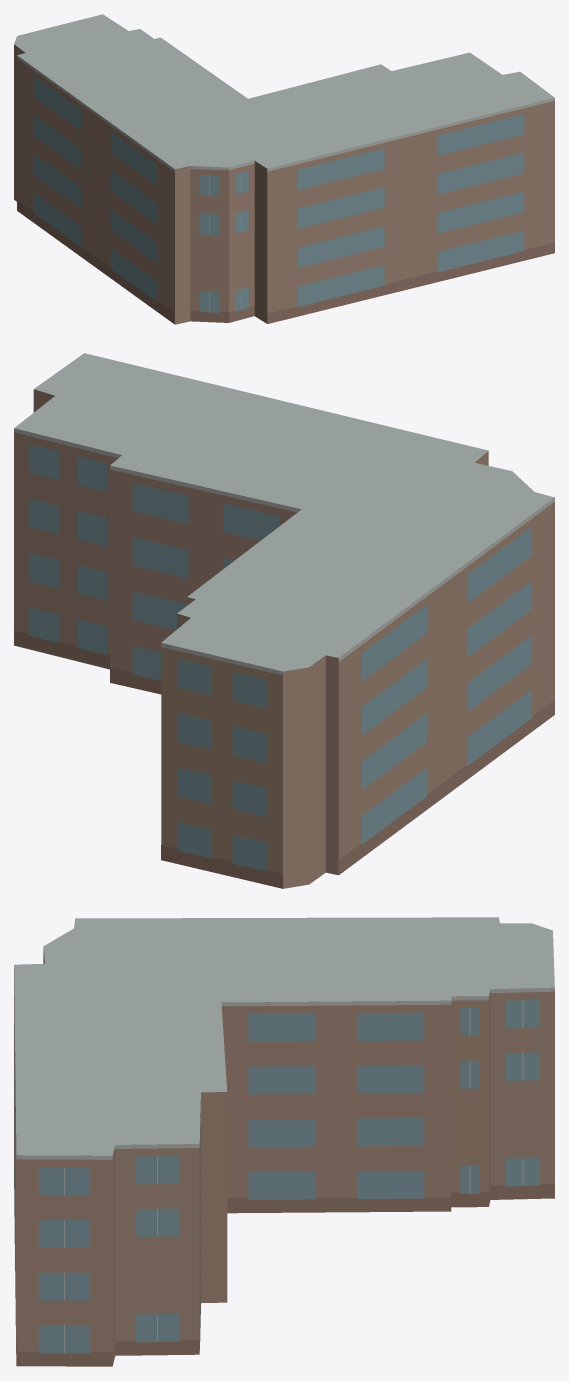
Rendered from survey-upis-32617602.glb.
3 views of the same model, one above another, from view 1: azimuth 30°, elevation 25°; view 2: azimuth 150°, elevation 25°; view 3: azimuth 270°, elevation 25° (orthographic). The views are drawn at different scales.
Parts seen in each view (by area): view 1: survey-upis-32617602.tmp; view 2: survey-upis-32617602.tmp; view 3: survey-upis-32617602.tmp.
Part boxes in pixels (x1,y1,x2,y2): survey-upis-32617602.tmp: (14,14,554,324); survey-upis-32617602.tmp: (14,353,554,888); survey-upis-32617602.tmp: (14,917,554,1366).
Bounding box in the file's own units: 31.09 × 12.8 × 29.78.
